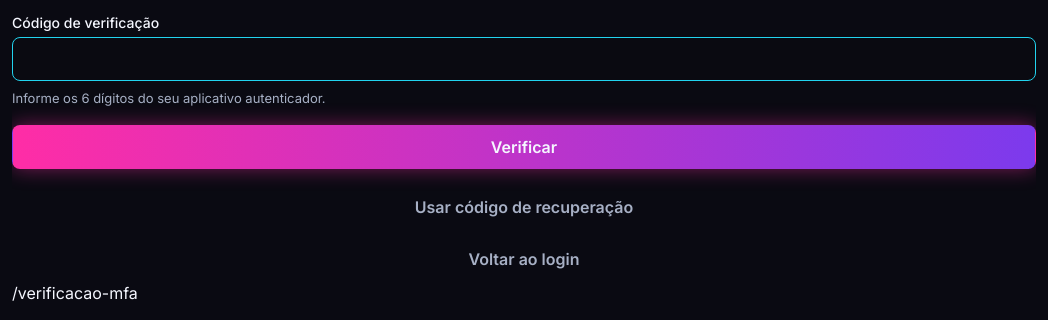
Test: MfaForm (AUTH-004) › CA-018: codigo valido conclui o desafio e segue o fluxo
Type "123456" into the field labelled "Código de verificação". click: (524, 59)
box: 12,37 -> 1036,81
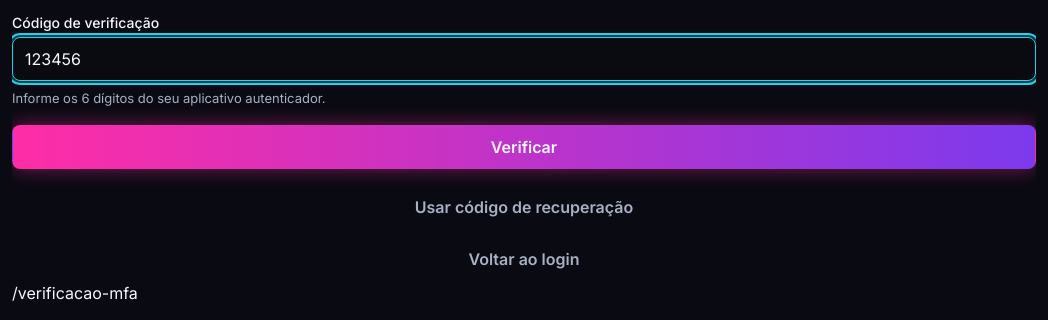
Click the button "Verificar". click: (524, 146)
box: 12,124 -> 1036,168
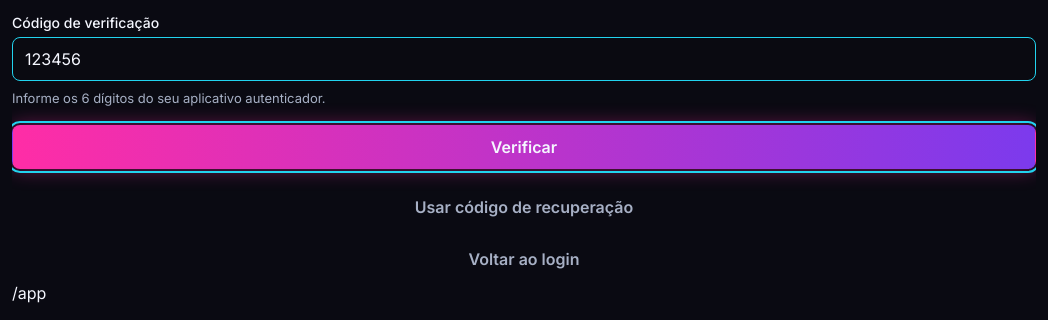
Now the text with test id "location" reads "/app", box 12,282 -> 46,302
